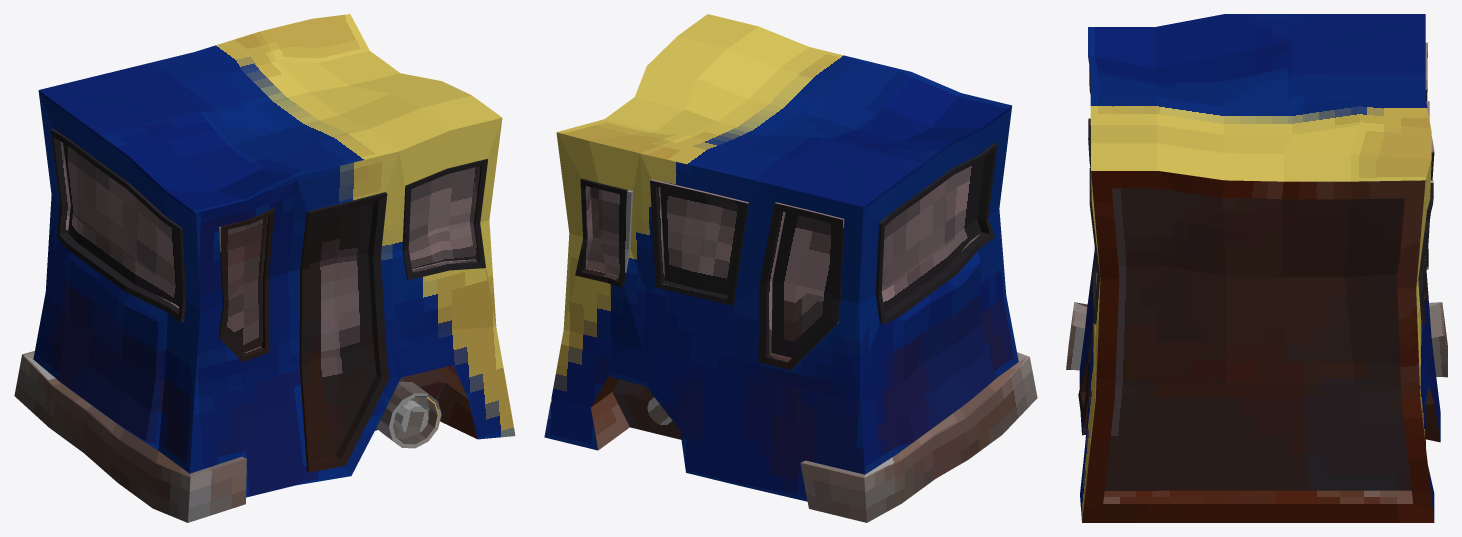
Rendered from BondiTrasero v2.glb.
3 views of the same model, side by side, from view 1: azimuth 30°, elevation 25°; view 2: azimuth 150°, elevation 25°; view 3: azimuth 270°, elevation 25° (orthographic). The views are drawn at different scales.
Parts seen in each view (by area): view 1: BondiTras; view 2: BondiTras; view 3: BondiTras.
Boxes of the visible parts, left/top/right/bottom form: BondiTras: left=14, top=14, right=515, bottom=522; BondiTras: left=544, top=14, right=1037, bottom=522; BondiTras: left=1066, top=14, right=1447, bottom=522.
Size of the model in its own units: 2.05 by 1.92 by 1.84.
1 material, 1 textured.
